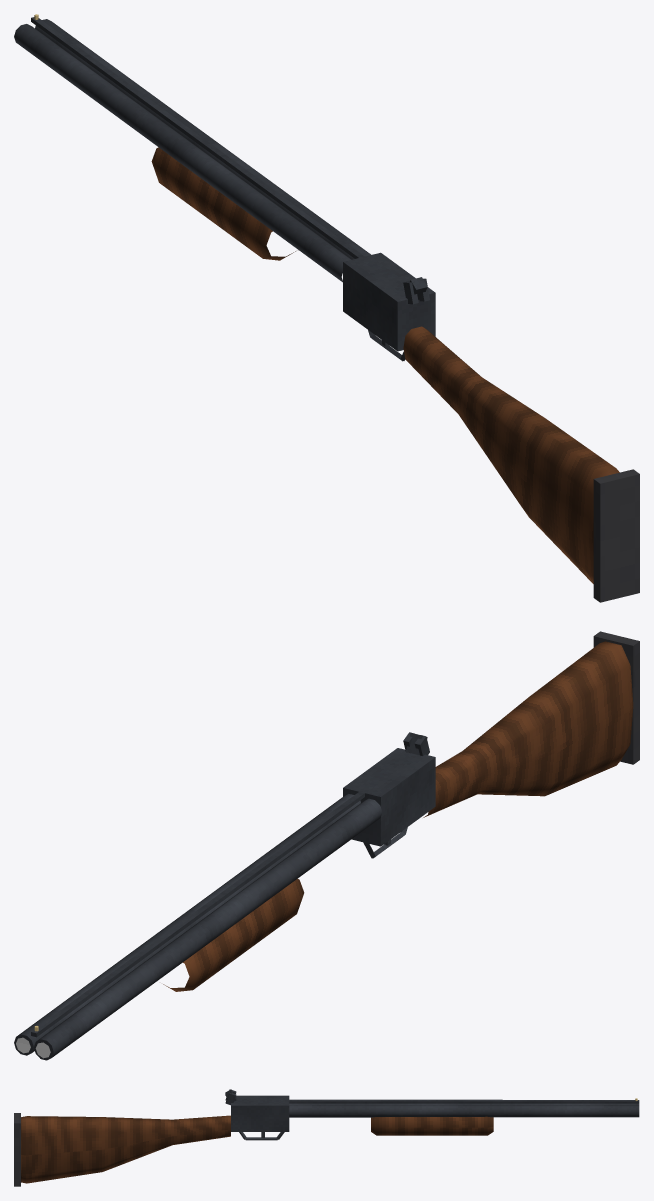
Rendered from item_shotgun.glb.
The picture shows the model from 3 angles, top to bottom: view 1: azimuth 30°, elevation 25°; view 2: azimuth 150°, elevation 25°; view 3: azimuth 270°, elevation 25°; orthographic projection. The views are drawn at different scales.
Visible parts, largest first — view 1: shotgun; view 2: shotgun; view 3: shotgun.
Part boxes in pixels (x1=…): shotgun: x1=14, y1=14, x2=639, y2=602; shotgun: x1=14, y1=631, x2=639, y2=1060; shotgun: x1=14, y1=1089, x2=639, y2=1186.
Size of the model in its own units: 0.048 by 0.1718 by 1.07.
5 materials, 5 textured.
